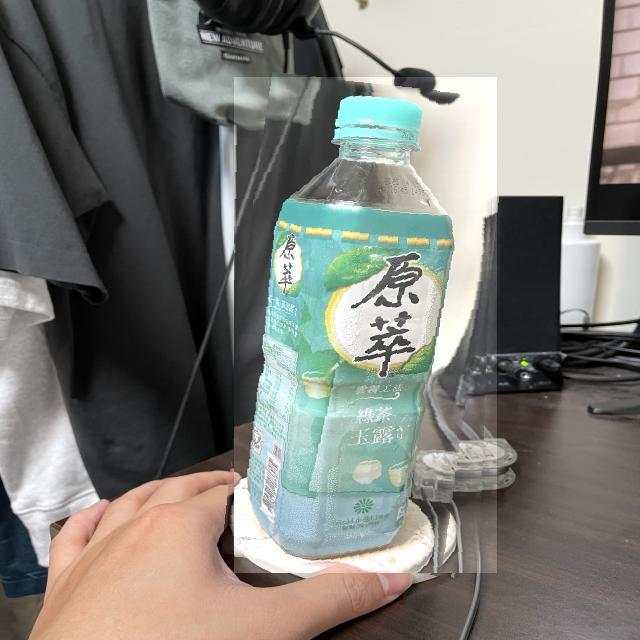YuanTsui_GreenTea: (234, 77, 497, 573)
